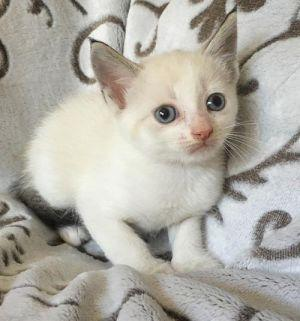siamese: (82, 2, 249, 183)
